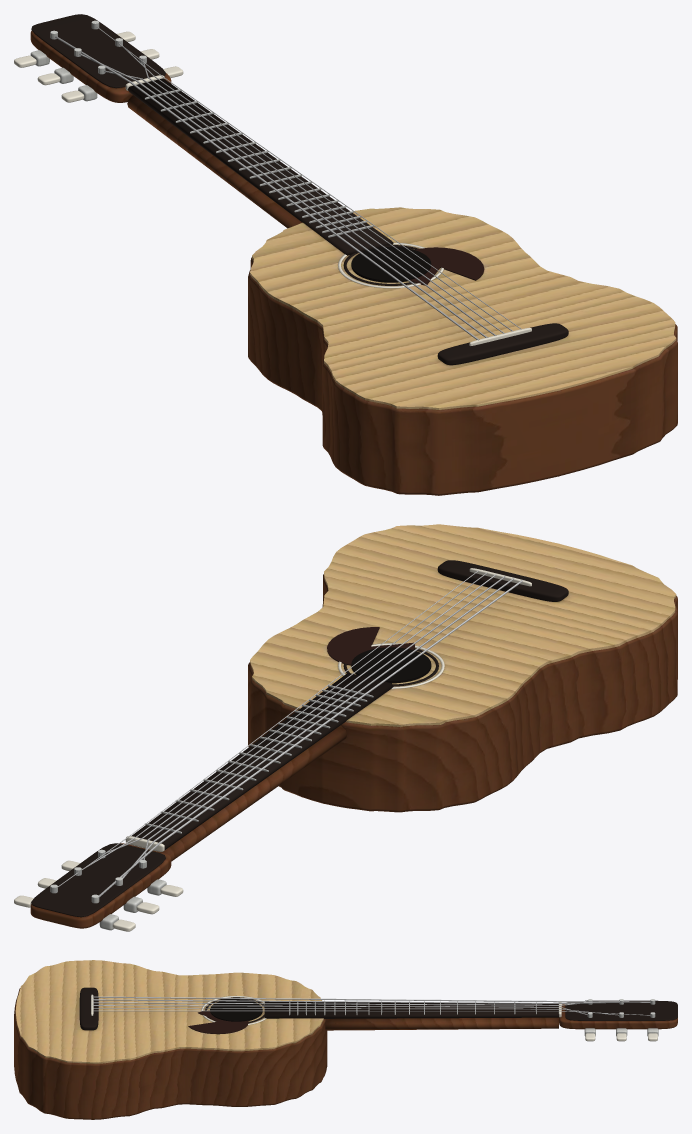
Rendered from natural.glb.
3 views of the same model, one above another, from view 1: azimuth 30°, elevation 25°; view 2: azimuth 150°, elevation 25°; view 3: azimuth 270°, elevation 25° (orthographic). The views are drawn at different scales.
Parts seen in each view (by area): view 1: spruce_top, rosewood, ebony_board, string_steel, fret_nickel, hole_dark, bone_nut, pickguard; view 2: spruce_top, rosewood, ebony_board, string_steel, fret_nickel, bone_nut, hole_dark, pickguard; view 3: rosewood, spruce_top, ebony_board, string_steel, hole_dark, fret_nickel, pickguard, bone_nut.
Part boxes in pixels (left/top/right/bottom): spruce_top: left=250, top=207, right=676, bottom=409; rosewood: left=30, top=30, right=677, bottom=495; ebony_board: left=31, top=14, right=568, bottom=365; string_steel: left=55, top=26, right=521, bottom=340; fret_nickel: left=30, top=20, right=373, bottom=237; hole_dark: left=351, top=247, right=431, bottom=282; bone_nut: left=14, top=31, right=531, bottom=345; pickguard: left=410, top=247, right=484, bottom=285; spruce_top: left=250, top=524, right=676, bottom=727; rosewood: left=30, top=574, right=677, bottom=928; ebony_board: left=31, top=560, right=568, bottom=917; string_steel: left=58, top=570, right=522, bottom=897; fret_nickel: left=30, top=685, right=373, bottom=930; bone_nut: left=14, top=568, right=531, bottom=931; hole_dark: left=351, top=647, right=431, bottom=683; pickguard: left=327, top=627, right=414, bottom=665; rosewood: left=14, top=988, right=677, bottom=1119; spruce_top: left=15, top=960, right=323, bottom=1063; ebony_board: left=79, top=987, right=677, bottom=1030; string_steel: left=92, top=996, right=650, bottom=1015; hole_dark: left=210, top=999, right=262, bottom=1021; fret_nickel: left=289, top=999, right=658, bottom=1036; pickguard: left=188, top=1010, right=248, bottom=1034; bone_nut: left=91, top=994, right=657, bottom=1041.
Bounding box in the file's own units: 0.3898 × 0.1156 × 1.06.
Materials: 8 (4 with a texture image).
